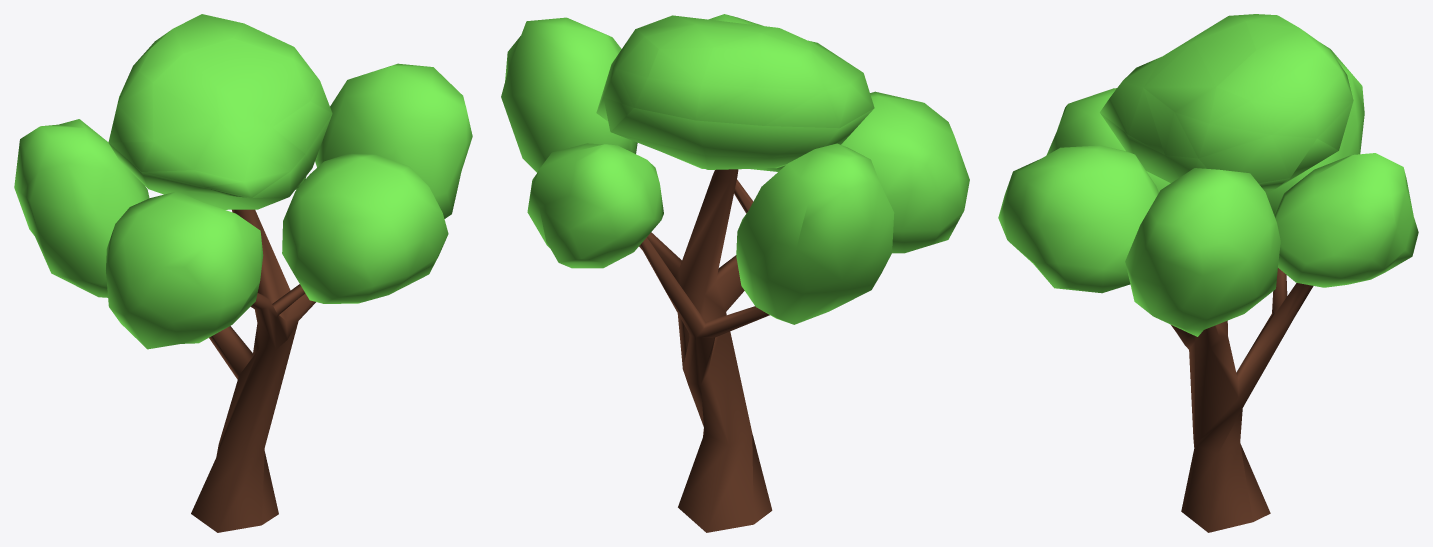
The model's file is Tree02.fbx.
The picture shows the model from 3 angles, left to right: view 1: azimuth 30°, elevation 25°; view 2: azimuth 150°, elevation 25°; view 3: azimuth 270°, elevation 25°; orthographic projection. The views are drawn at different scales.
Visible parts, largest first — view 1: Tree02; view 2: Tree02; view 3: Tree02.
Part boxes in pixels (x1,y1,x2,y2): Tree02: (14, 14, 472, 532); Tree02: (501, 14, 969, 532); Tree02: (998, 14, 1418, 532).
Bounding box in the file's own units: 719 × 808 × 648.
